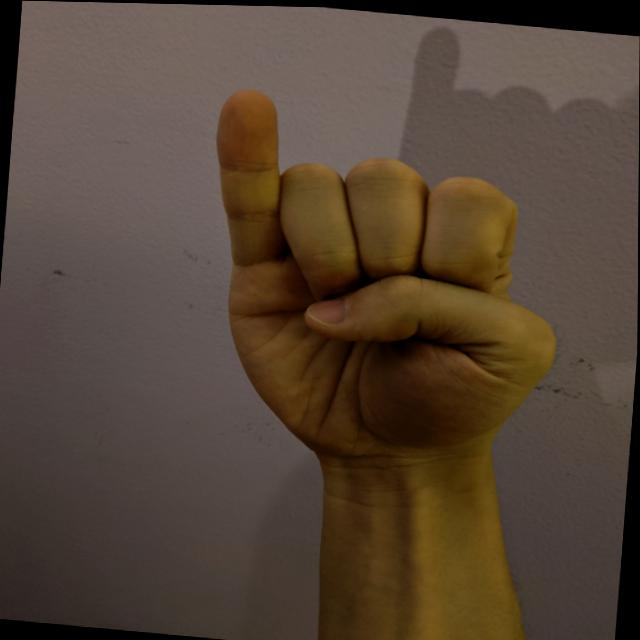I: (184, 77, 586, 487)
